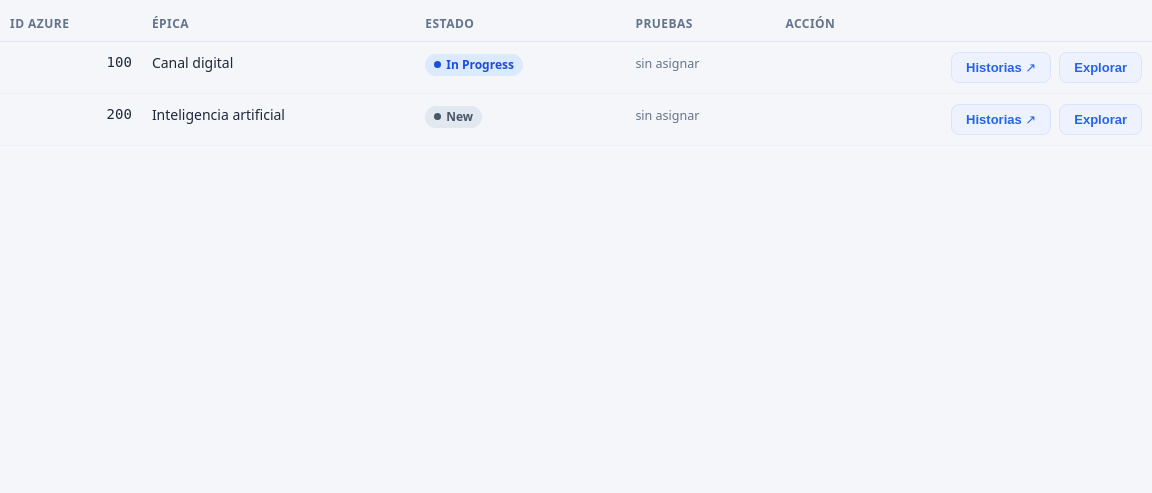
it: TablaEpicas › expande una épica y muestra sus features y el acceso a las historias
The image size is (1152, 493).
Click the button with aria-label "expandir épica canal digital": (1101, 68) [1059,52,1142,83]
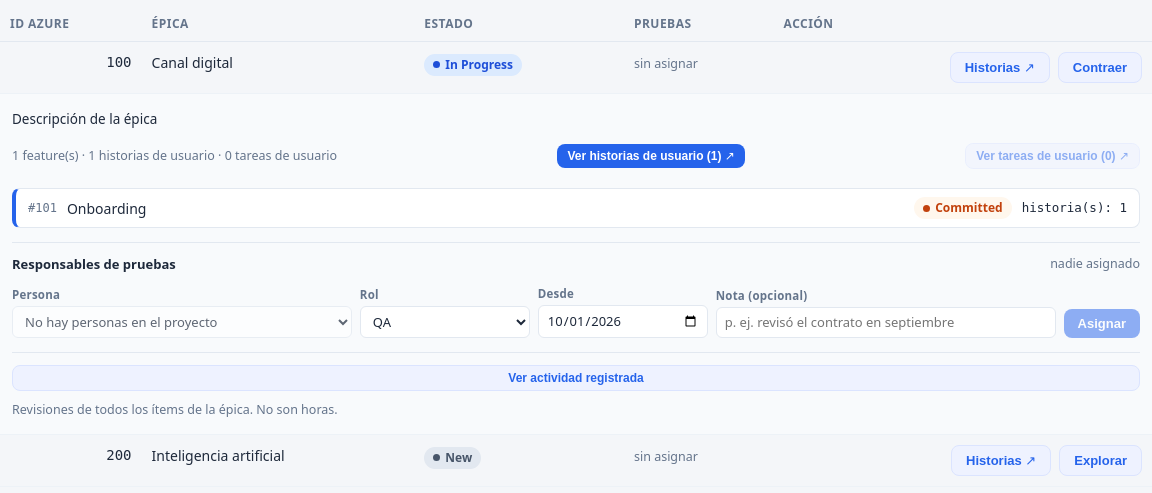
Result: the text "Onboarding" is shown at [67,198,146,218]
Result: the button "Ver historias de usuario (1) ↗" is shown at [557,144,745,168]
